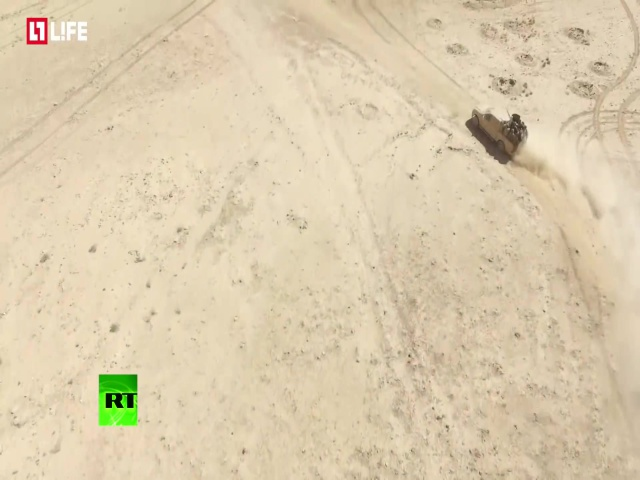vehicle: (471, 103, 530, 159)
